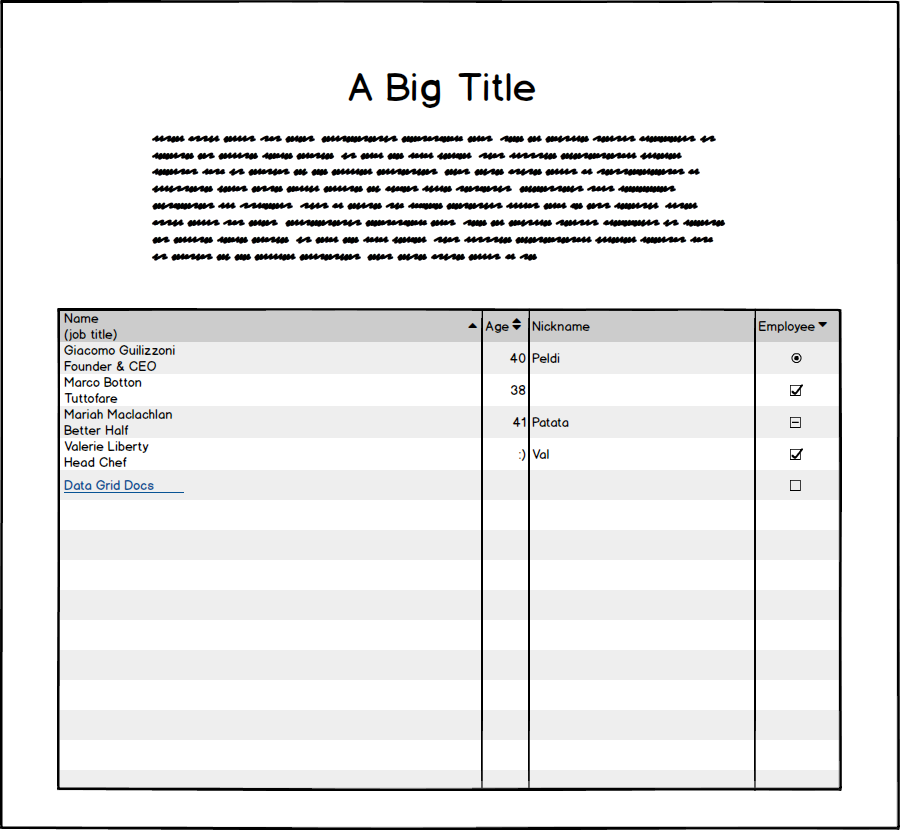h1: (336, 57, 545, 115)
p: (146, 130, 734, 269)
table: (47, 301, 846, 797)
